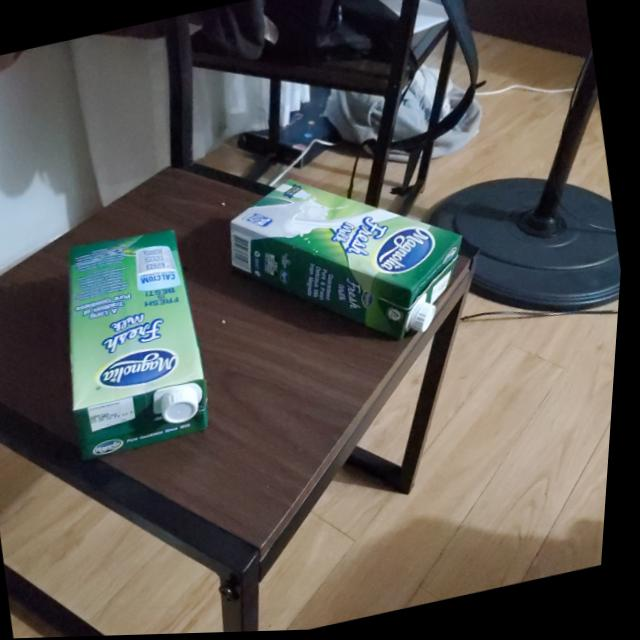milk: (216, 139, 495, 374), (38, 213, 228, 465)
